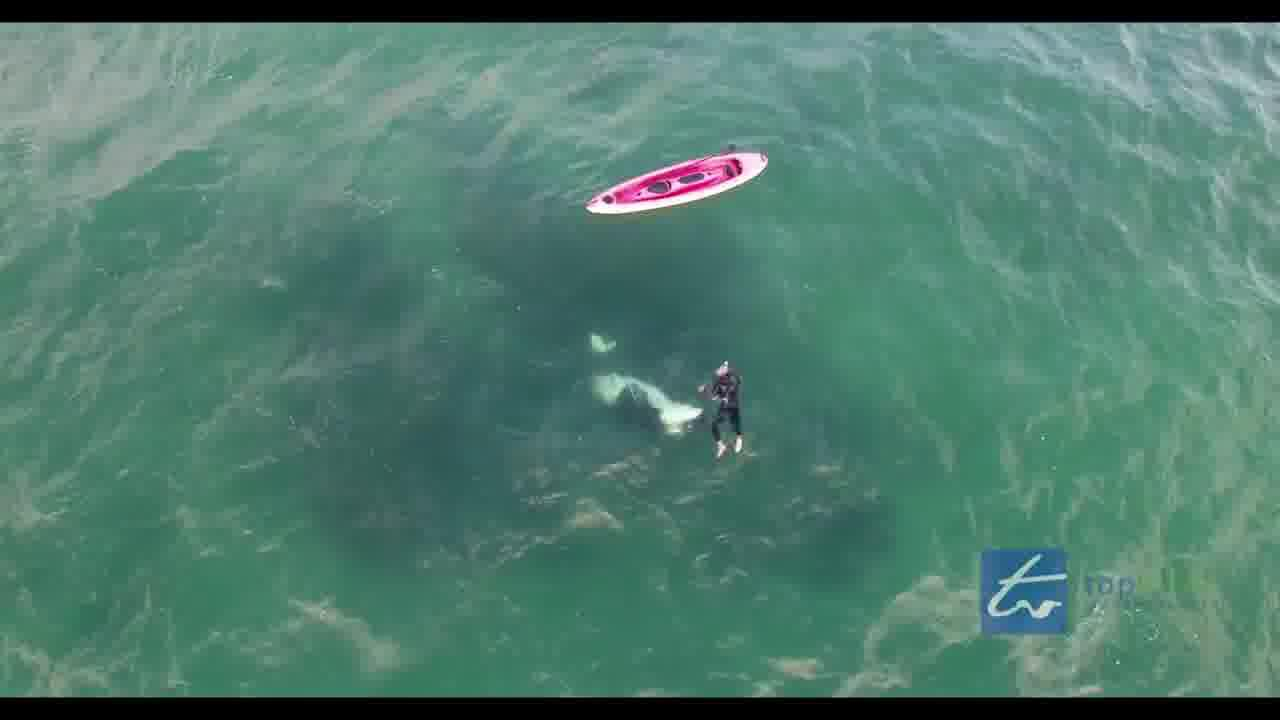human: (702, 349, 750, 460)
